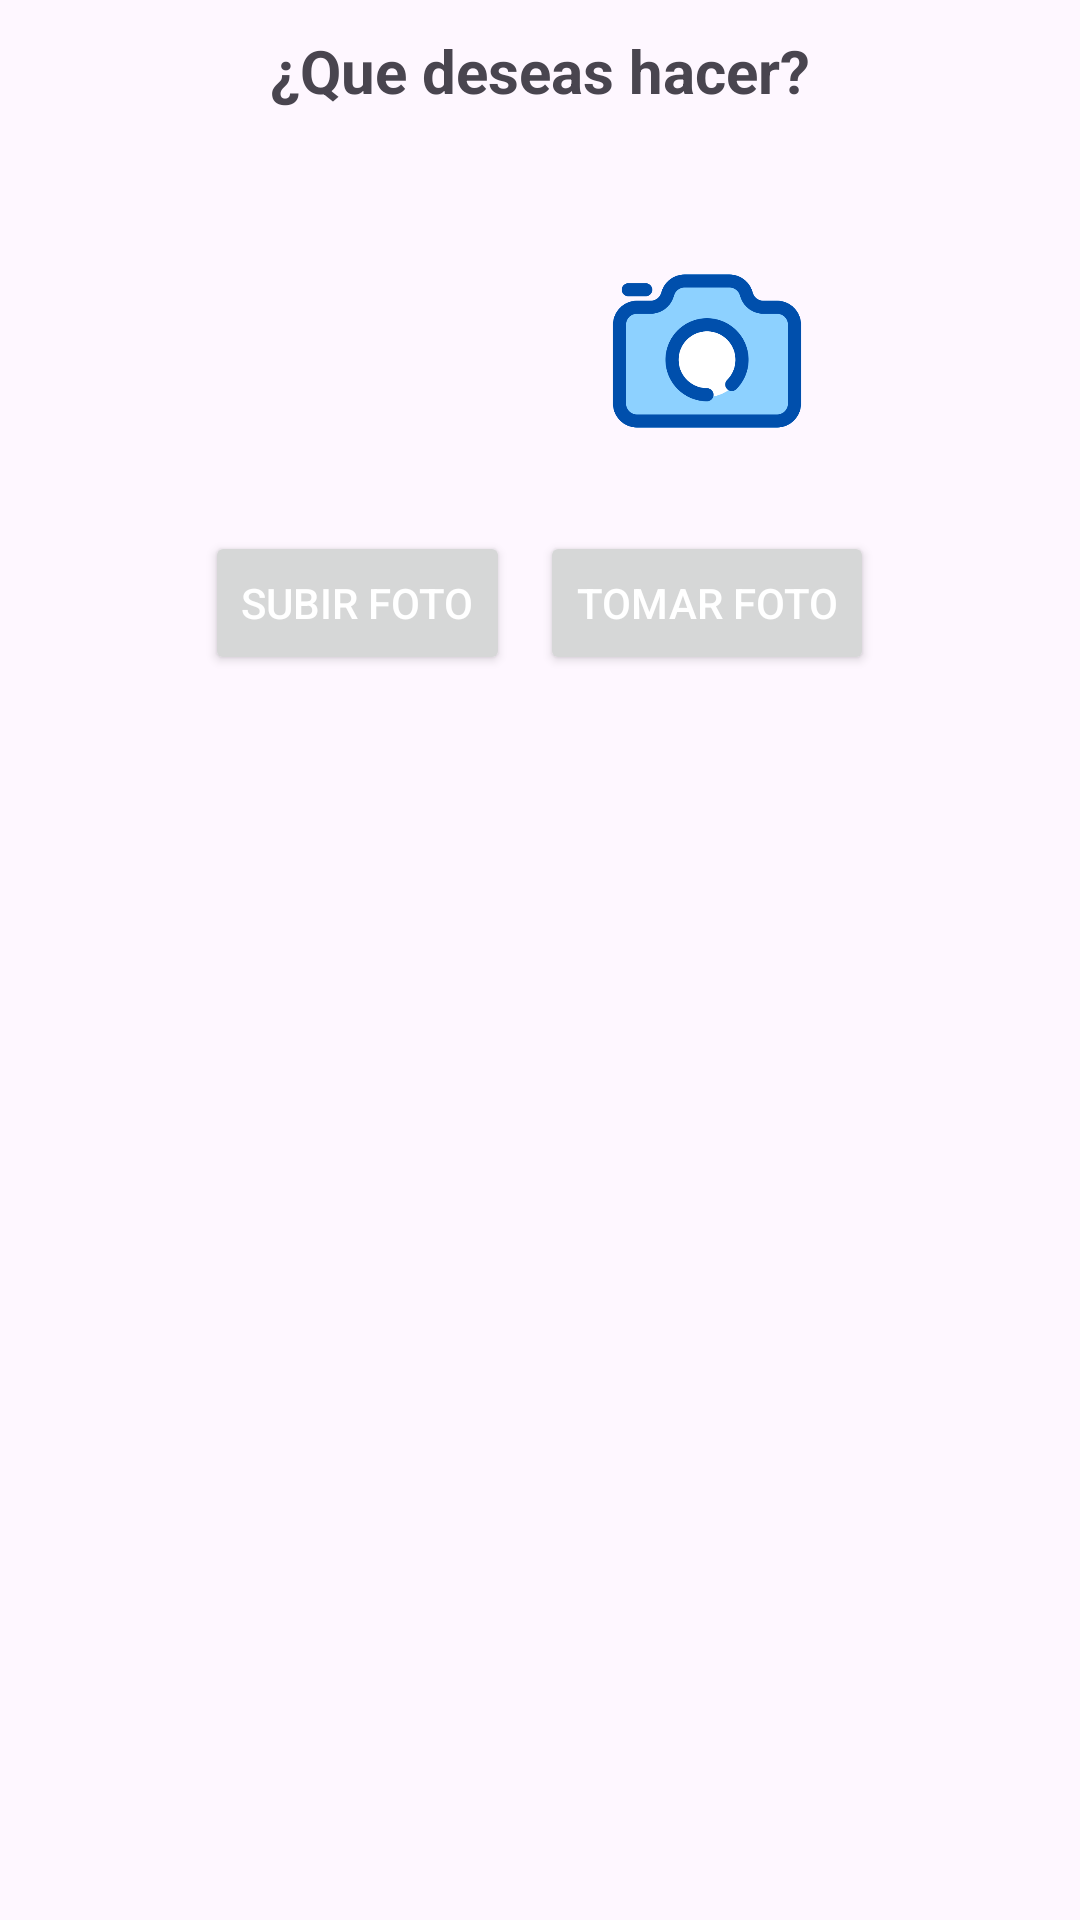

Where icons sit on this 1080w x 1920h app screen, as bbox=[x1, y1, x2, y2]:
camera: bbox=[613, 274, 801, 428]
